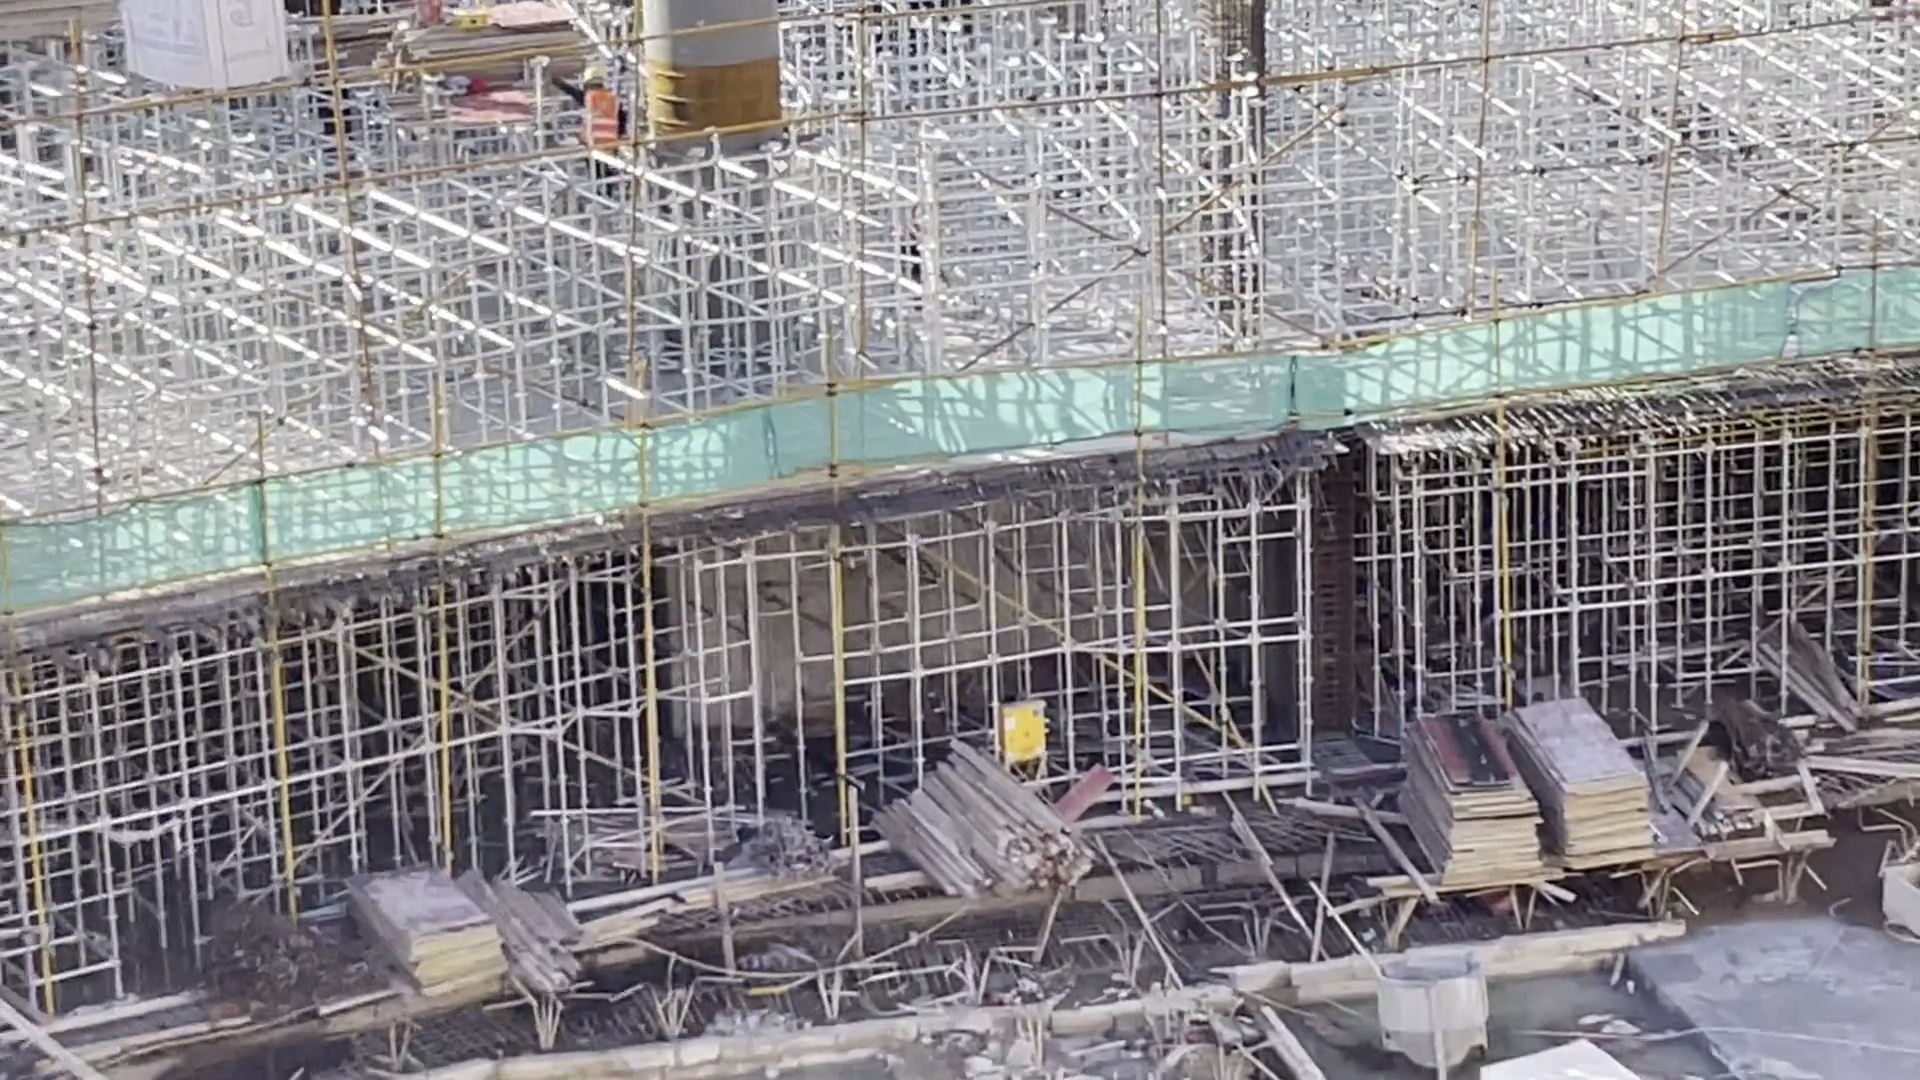board: (1500, 695, 1667, 878), (1396, 702, 1549, 894), (334, 861, 512, 1008), (386, 8, 595, 95)
ebox: (991, 694, 1056, 776)
hopper: (1371, 950, 1489, 1080), (1878, 858, 1920, 941)
person: (577, 67, 629, 149)
vest: (582, 90, 622, 148)
wood: (864, 734, 1096, 902), (507, 876, 591, 1006)
